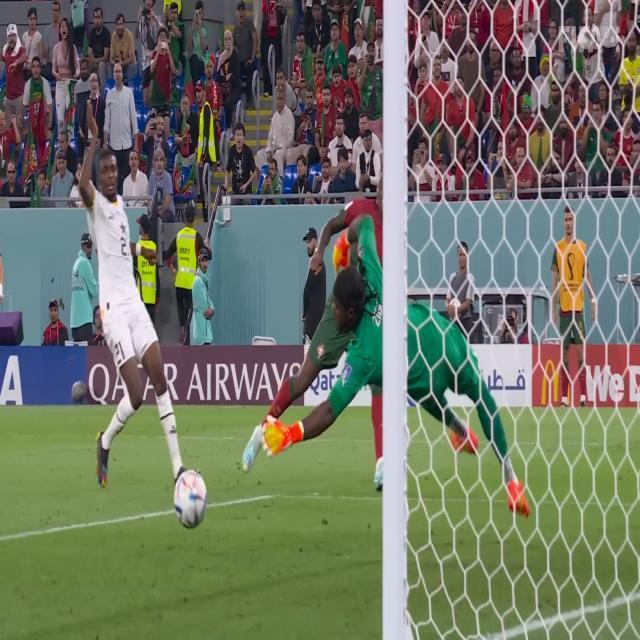football: (155, 465, 228, 536)
